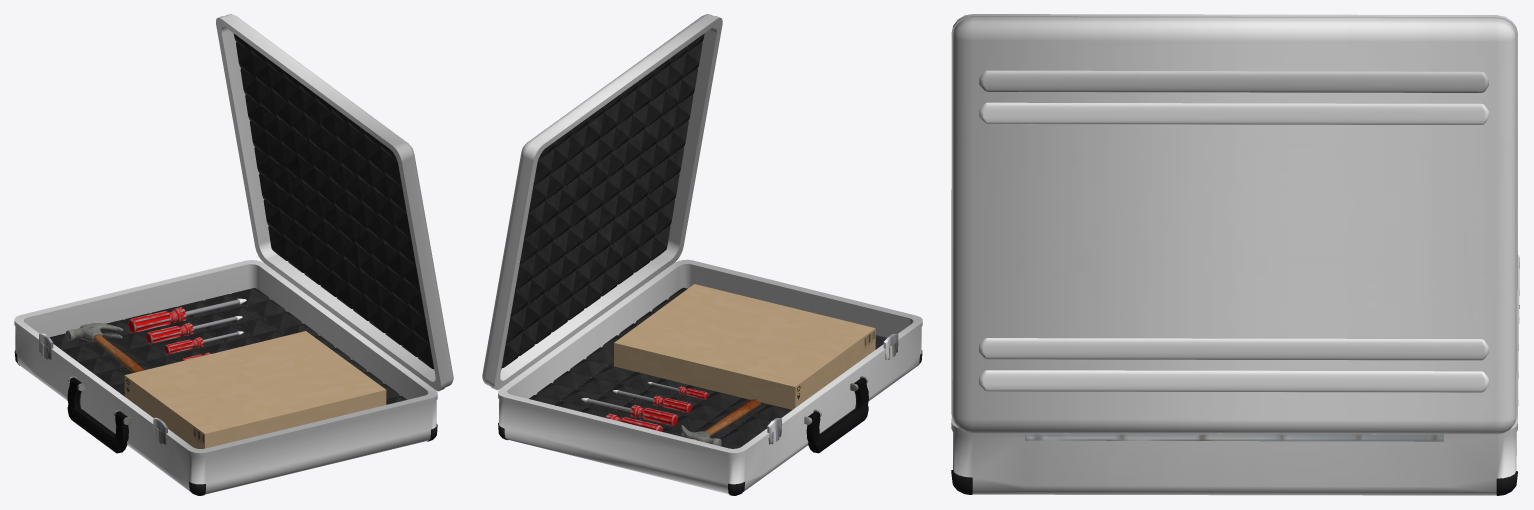
File: valigiassistenza2.gltf
3 renders of one model, left to right at view 1: azimuth 30°, elevation 25°; view 2: azimuth 150°, elevation 25°; view 3: azimuth 270°, elevation 25°, orthographic. The views are drawn at different scales.
Parts seen in each view (by area): view 1: Assistenza Tecnica Valigetta Alta, Assistenza Tecnica Valigetta Bassa, Assistenza Tecnica Valigetta Bassa Scatola, Assistenza Tecnica Valigetta Martello, Assistenza Tecnica Valigetta Bassa Cacciavite 1, Assistenza Tecnica Valigetta Bassa Cacciavite 2, Assistenza Tecnica Valigetta Bassa Cacciavite 3; view 2: Assistenza Tecnica Valigetta Alta, Assistenza Tecnica Valigetta Bassa, Assistenza Tecnica Valigetta Bassa Scatola, Assistenza Tecnica Valigetta Martello, Assistenza Tecnica Valigetta Bassa Cacciavite 2, Assistenza Tecnica Valigetta Bassa Cacciavite 3; view 3: Assistenza Tecnica Valigetta Alta, Assistenza Tecnica Valigetta Bassa.
Part boxes in pixels (bbox=[...]): Assistenza Tecnica Valigetta Alta: bbox=[216, 14, 453, 391]; Assistenza Tecnica Valigetta Bassa: bbox=[14, 260, 437, 495]; Assistenza Tecnica Valigetta Bassa Scatola: bbox=[124, 331, 386, 448]; Assistenza Tecnica Valigetta Martello: bbox=[65, 323, 144, 372]; Assistenza Tecnica Valigetta Bassa Cacciavite 1: bbox=[128, 298, 246, 333]; Assistenza Tecnica Valigetta Bassa Cacciavite 2: bbox=[146, 316, 242, 344]; Assistenza Tecnica Valigetta Bassa Cacciavite 3: bbox=[164, 331, 243, 354]; Assistenza Tecnica Valigetta Alta: bbox=[482, 14, 722, 390]; Assistenza Tecnica Valigetta Bassa: bbox=[498, 259, 922, 495]; Assistenza Tecnica Valigetta Bassa Scatola: bbox=[614, 284, 875, 409]; Assistenza Tecnica Valigetta Martello: bbox=[681, 399, 760, 446]; Assistenza Tecnica Valigetta Bassa Cacciavite 2: bbox=[581, 398, 677, 426]; Assistenza Tecnica Valigetta Bassa Cacciavite 3: bbox=[612, 390, 691, 413]; Assistenza Tecnica Valigetta Alta: bbox=[951, 14, 1517, 434]; Assistenza Tecnica Valigetta Bassa: bbox=[951, 254, 1519, 495].
Size of the model in its own units: 0.2923 by 0.3223 by 0.349.
4 materials, 4 textured.
